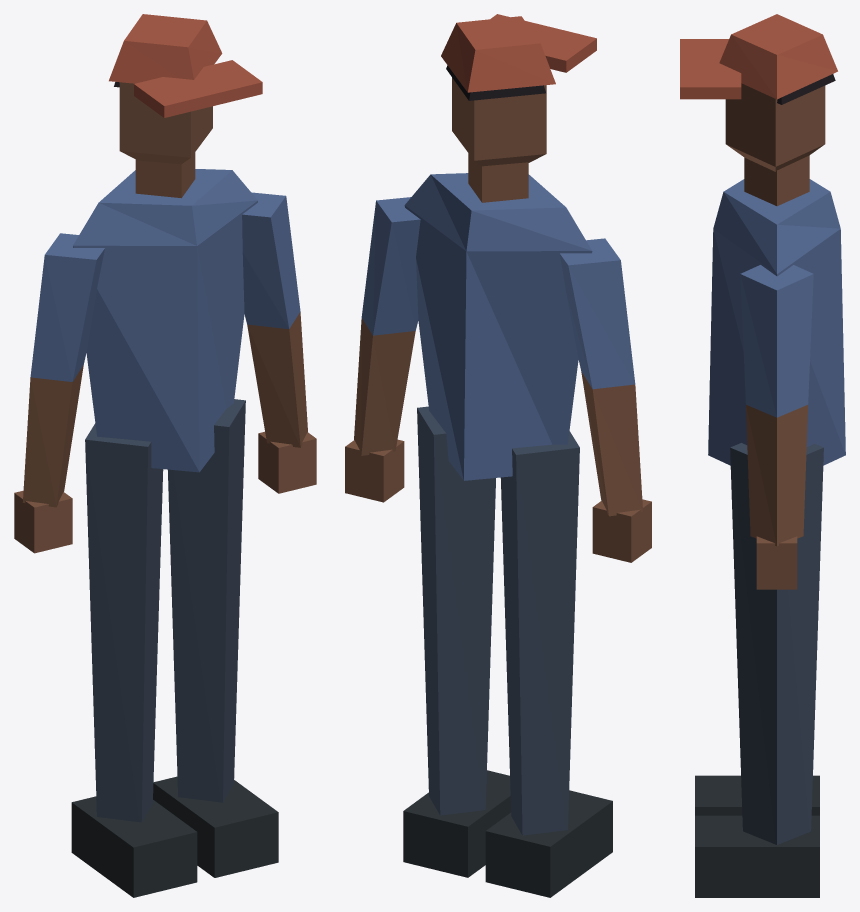
The model's file is pedestrian-runner.lod1.glb.
3 views of the same model, side by side, from view 1: azimuth 30°, elevation 25°; view 2: azimuth 150°, elevation 25°; view 3: azimuth 270°, elevation 25° (orthographic).
Visible parts, largest first — view 1: pedestrian-body; view 2: pedestrian-body; view 3: pedestrian-body.
Boxes of the visible parts, left/top/right/bottom form: pedestrian-body: left=14, top=14, right=316, bottom=897; pedestrian-body: left=345, top=14, right=651, bottom=897; pedestrian-body: left=680, top=14, right=845, bottom=897.
Size of the model in its own units: 0.6775 by 1.86 by 0.3377.
